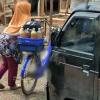bicycles: (11, 15, 64, 97)
